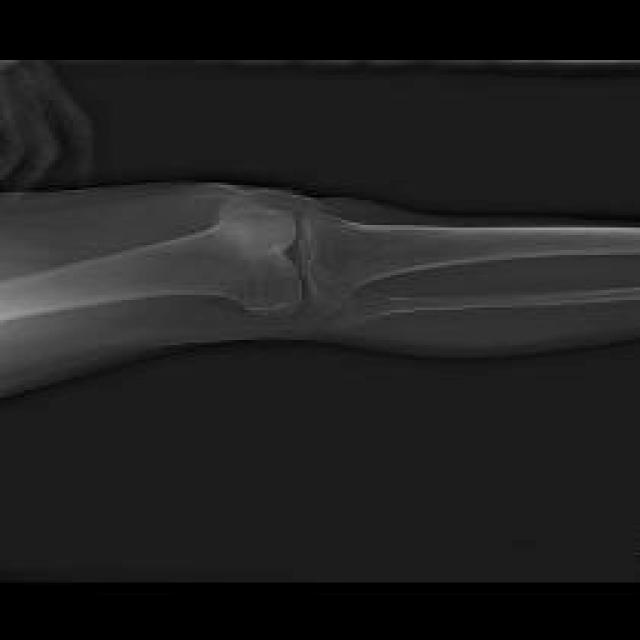normal: (4, 190, 638, 321), (343, 289, 640, 323)
